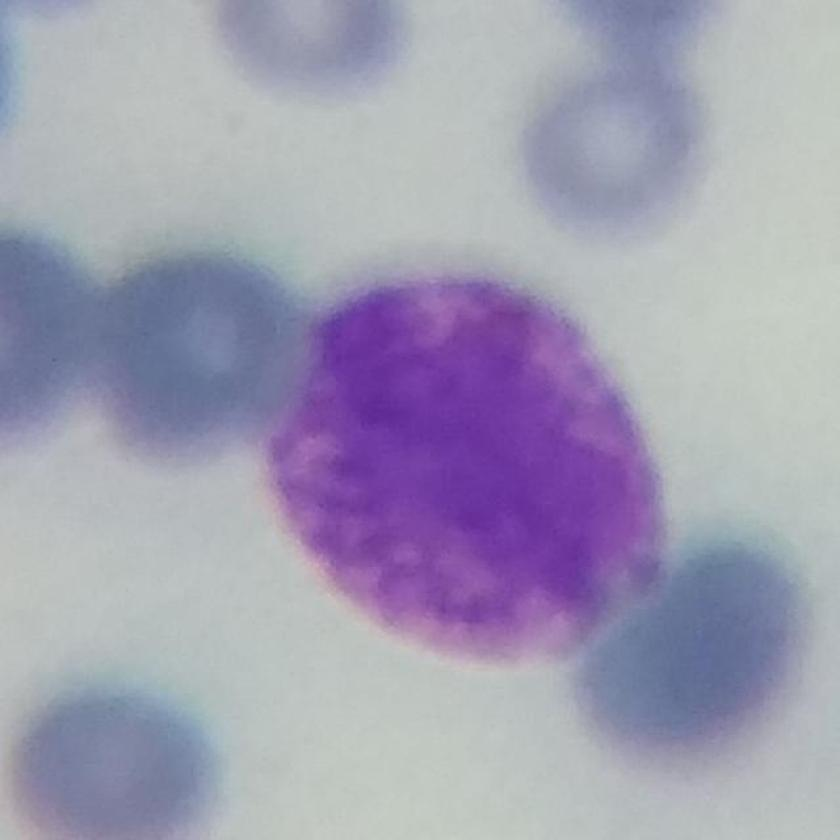basophil: (262, 262, 678, 669)
